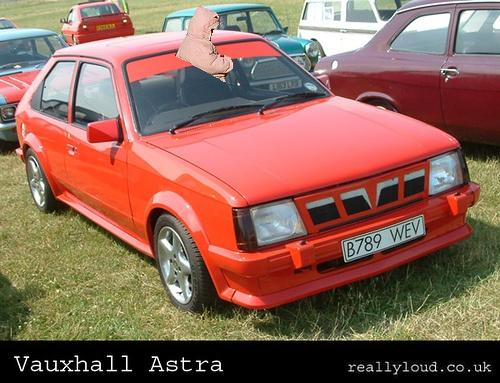tampered: (176, 6, 233, 82)
